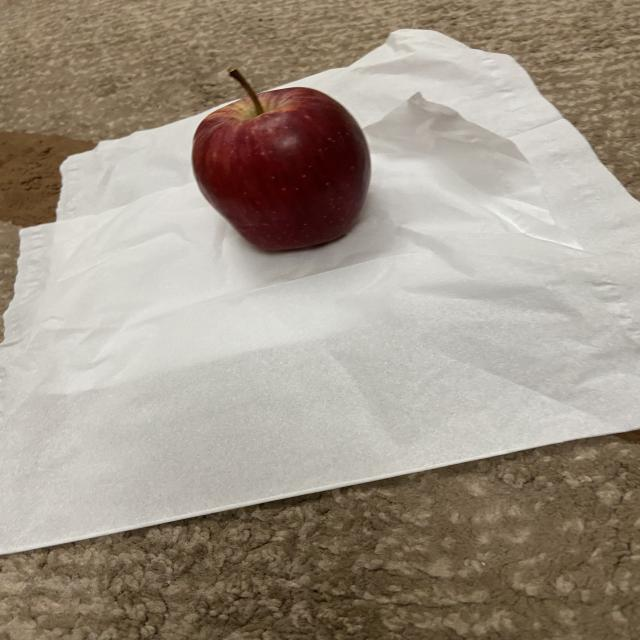apple: (185, 62, 377, 254)
